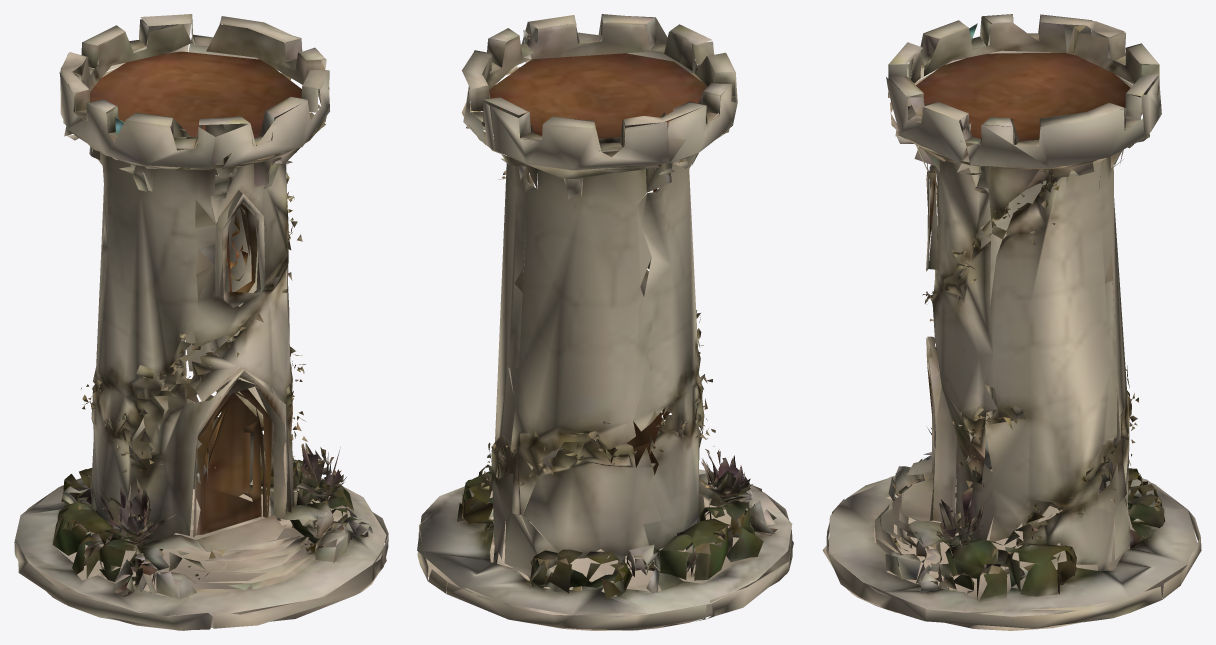
Rendered from Elven_tower_base_Circ_town.glb.
3 views of the same model, side by side, from view 1: azimuth 30°, elevation 25°; view 2: azimuth 150°, elevation 25°; view 3: azimuth 270°, elevation 25° (orthographic).
Visible parts, largest first — view 1: Elven_tower_base_Circ; view 2: Elven_tower_base_Circ; view 3: Elven_tower_base_Circ.
Boxes of the visible parts, x1,y1,x2,y2 form: Elven_tower_base_Circ: (14,14,388,630); Elven_tower_base_Circ: (417,14,793,630); Elven_tower_base_Circ: (822,14,1201,630).
Size of the model in its own units: 1.35 by 1.92 by 1.36.
1 material, 1 textured.
